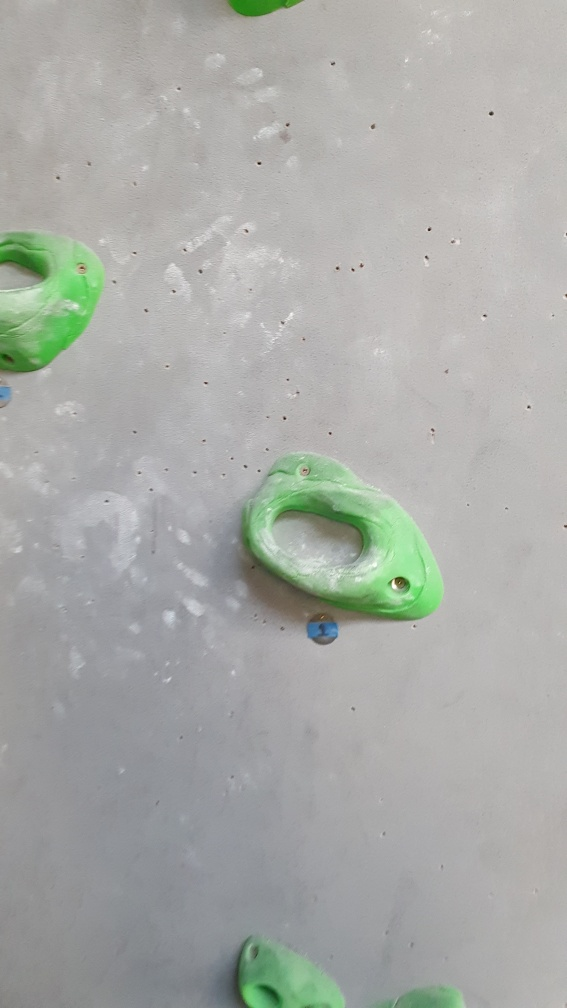Hand Start: (301, 614, 342, 651)
Pocket: (240, 445, 445, 628), (1, 225, 110, 377)
